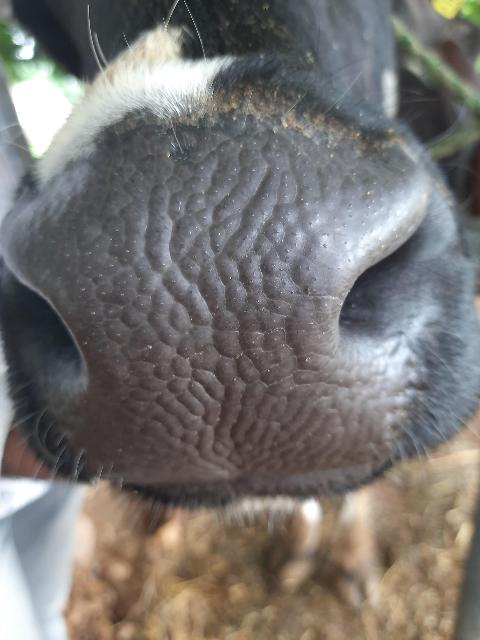Muzzle: (49, 136, 409, 468)
